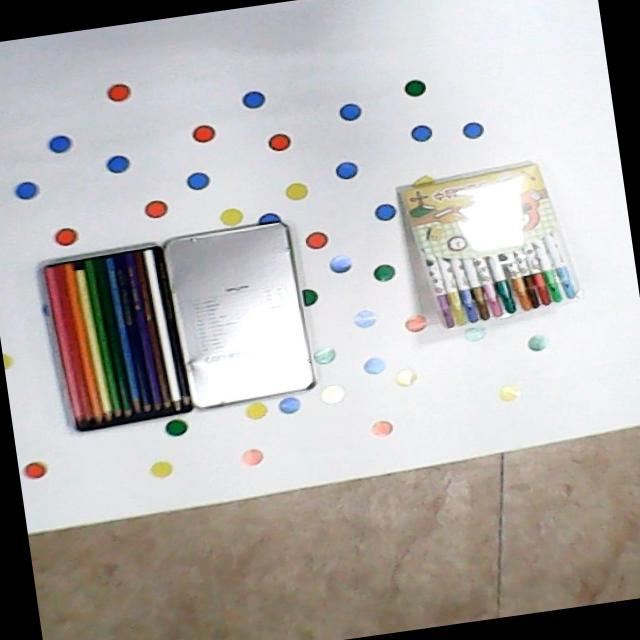color: (29, 238, 199, 443)
signpen: (387, 152, 593, 340)
